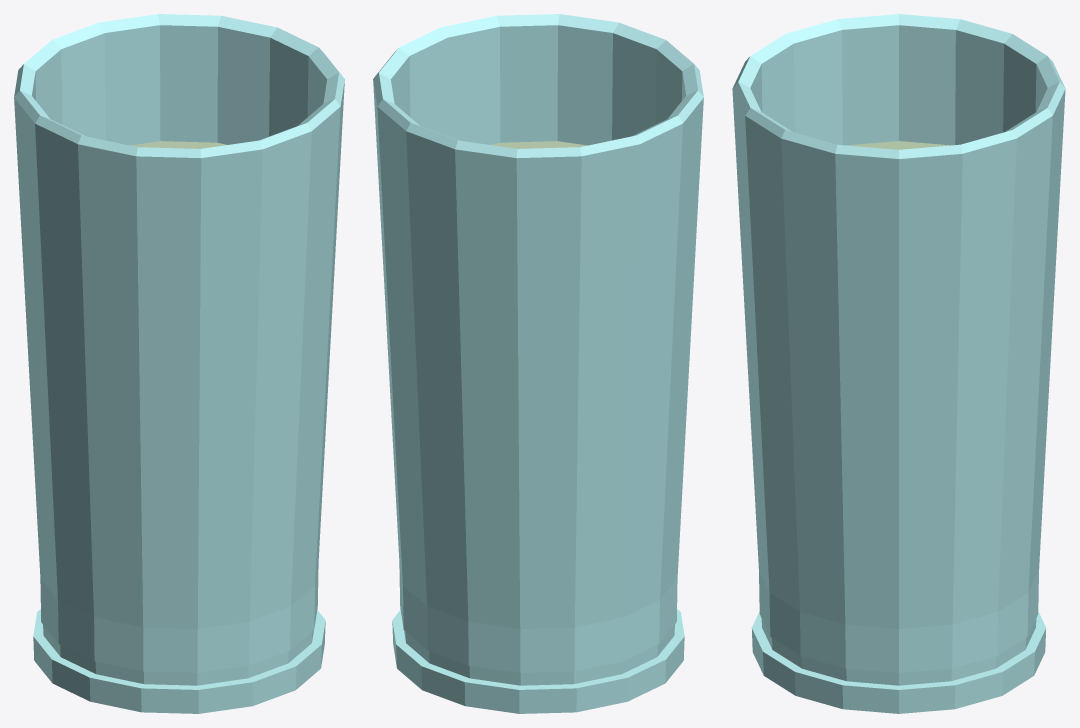
Rendered from cupFilledGreen.fbx.
The picture shows the model from 3 angles, left to right: view 1: azimuth 30°, elevation 25°; view 2: azimuth 150°, elevation 25°; view 3: azimuth 270°, elevation 25°; orthographic projection.
Visible parts, largest first — view 1: Cup, Juice; view 2: Cup, Juice; view 3: Cup, Juice.
Boxes of the visible parts, x1,y1,x2,y2 form: Cup: (14, 14, 344, 713); Juice: (130, 141, 226, 148); Cup: (373, 14, 703, 713); Juice: (491, 141, 587, 148); Cup: (732, 14, 1065, 713); Juice: (847, 141, 950, 149).
Bounding box in the file's own units: 228 × 430 × 228.
